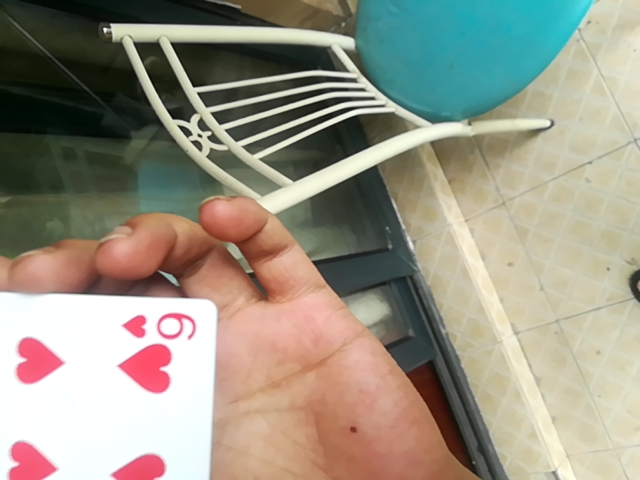hx 6: (1, 283, 209, 480)
